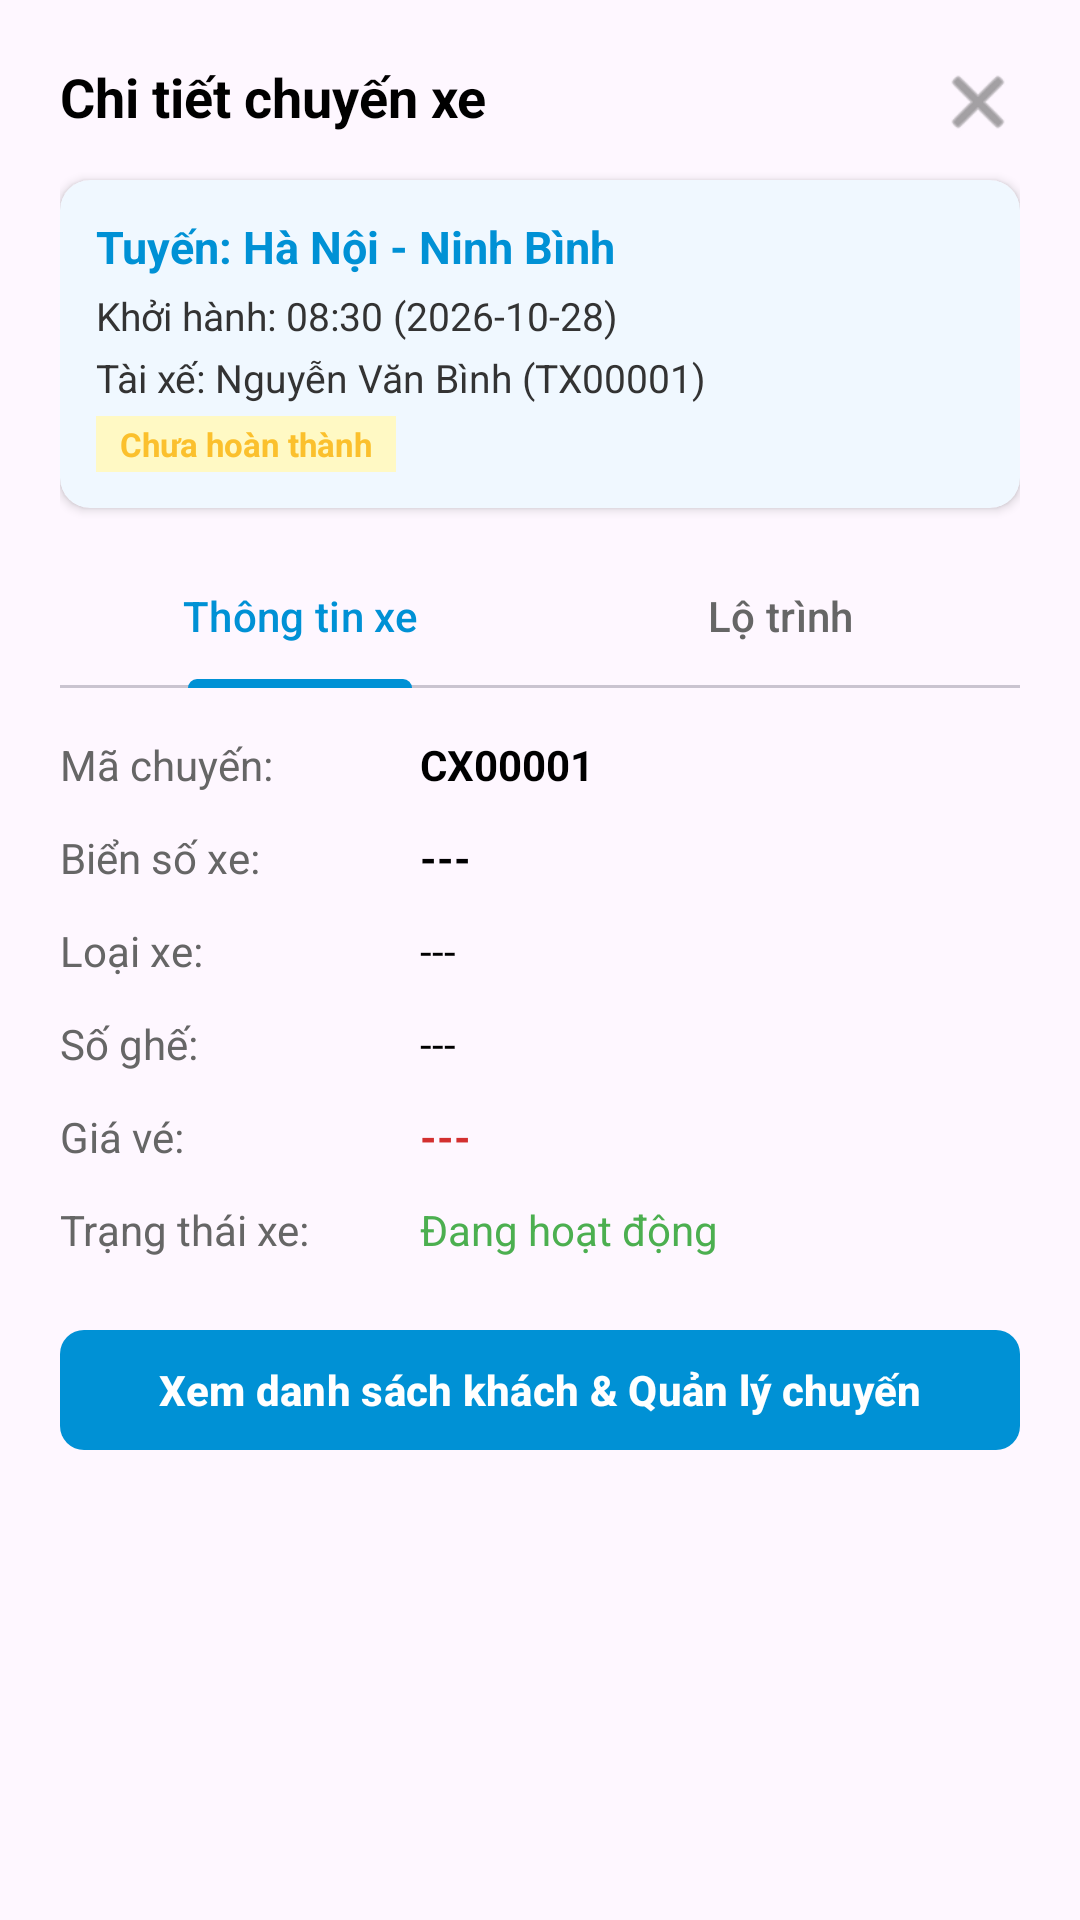

Screen size 1080×1920. Icon name, then its center in pixels as (x,y):
close clear cancel: (978,102)
